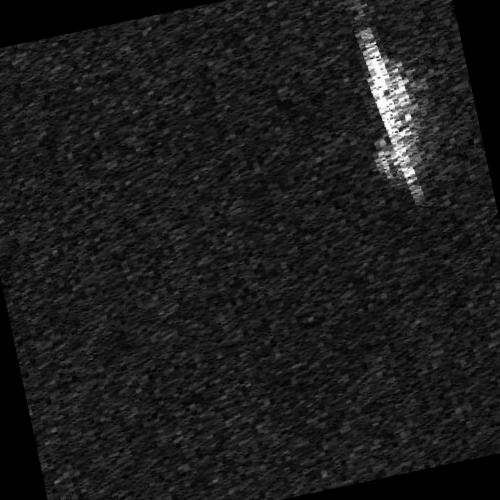ship: (358, 28, 420, 195)
